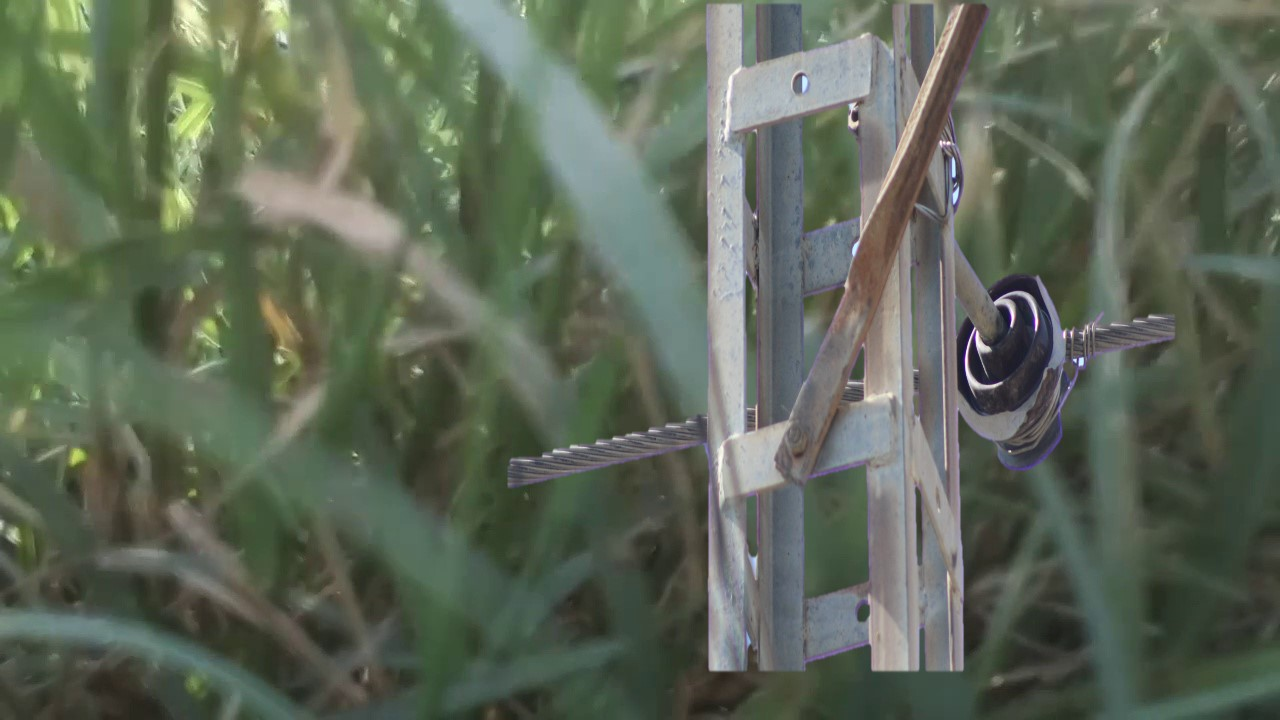defect_pin: (947, 264, 1089, 482)
